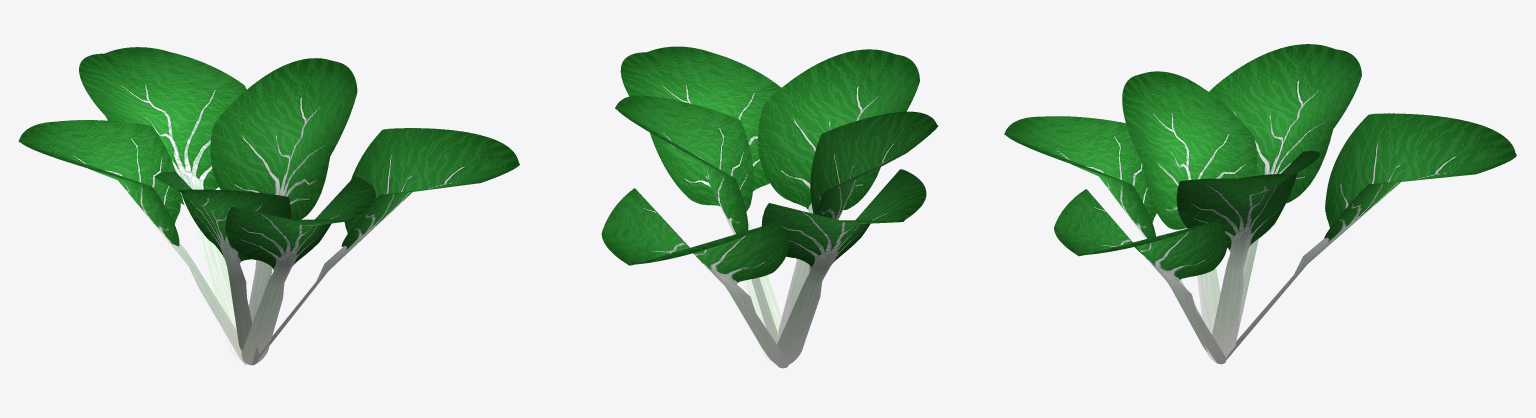
Rendered from bokchoy.fbx.
The picture shows the model from 3 angles, left to right: view 1: azimuth 30°, elevation 25°; view 2: azimuth 150°, elevation 25°; view 3: azimuth 270°, elevation 25°; orthographic projection. The views are drawn at different scales.
Visible parts, largest first — view 1: polySurface1; view 2: polySurface1; view 3: polySurface1.
Boxes of the visible parts, left/top/right/bottom form: polySurface1: left=18, top=47, right=519, bottom=365; polySurface1: left=601, top=46, right=938, bottom=368; polySurface1: left=1004, top=44, right=1516, bottom=364.
Bounding box in the file's own units: 5.97 × 3.47 × 6.02.
